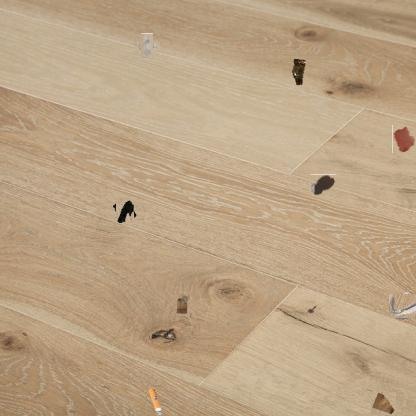dirty: (390, 292, 416, 320), (370, 391, 396, 415), (292, 57, 310, 87), (146, 386, 162, 416), (114, 201, 136, 221), (174, 294, 190, 316), (138, 37, 157, 55)
liquid: (392, 125, 415, 153), (310, 174, 336, 195)
